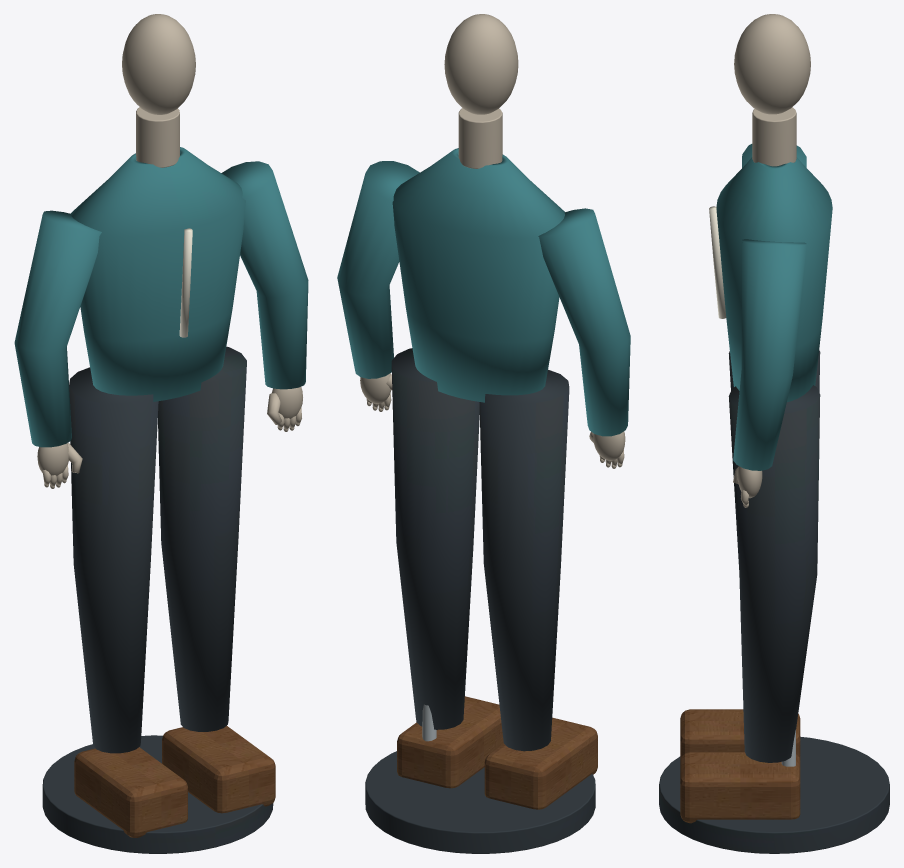
File: standing-mannequin.glb
The picture shows the model from 3 angles, left to right: view 1: azimuth 30°, elevation 25°; view 2: azimuth 150°, elevation 25°; view 3: azimuth 270°, elevation 25°; orthographic projection.
Visible parts, largest first — view 1: Original opaque dressed torso, Original closed trouser leg, Original closed trouser leg.001, Original long sleeve, Original long sleeve.001, Mannequin weighted display plinth, Original plain shoe, Original plain shoe.001, Neutral featureless mannequin head, Featureless mannequin neck, Original shirt front placket, Sculpted mannequin palm (+1 smaller); view 2: Original opaque dressed torso, Original closed trouser leg, Original closed trouser leg.001, Mannequin weighted display plinth, Original long sleeve, Original long sleeve.001, Original plain shoe, Original plain shoe.001, Neutral featureless mannequin head, Featureless mannequin neck, Sculpted mannequin palm, Sculpted mannequin palm.001; view 3: Original closed trouser leg.001, Original opaque dressed torso, Mannequin weighted display plinth, Original long sleeve.001, Original plain shoe.001, Neutral featureless mannequin head, Original plain shoe, Featureless mannequin neck, Original shirt front placket, Sculpted mannequin palm.001.
Part boxes in pixels (x1,y1,x2,y2): Original opaque dressed torso: (71,147,245,401); Original closed trouser leg: (69,367,158,753); Original closed trouser leg.001: (158,346,246,731); Original long sleeve: (14,210,101,447); Original long sleeve.001: (221,161,308,389); Mannequin weighted display plinth: (42,735,273,853); Original plain shoe: (74,747,187,837); Original plain shoe.001: (162,726,275,813); Neutral featureless mannequin head: (122,14,195,114); Featureless mannequin neck: (136,107,179,167); Original shirt front placket: (179,228,192,337); Sculpted mannequin palm: (37,443,68,476); Original opaque dressed torso: (392,148,564,402); Original closed trouser leg: (479,369,569,751); Original closed trouser leg.001: (391,348,479,729); Mannequin weighted display plinth: (365,751,595,853); Original long sleeve: (538,208,630,436); Original long sleeve.001: (337,161,419,378); Original plain shoe: (484,717,597,809); Original plain shoe.001: (397,696,503,788); Neutral featureless mannequin head: (444,14,518,114); Featureless mannequin neck: (458,108,502,168); Sculpted mannequin palm: (593,431,625,460); Sculpted mannequin palm.001: (360,373,391,403); Original closed trouser leg.001: (728,385,820,762); Original opaque dressed torso: (716,157,832,402); Mannequin weighted display plinth: (659,736,889,853); Original long sleeve.001: (733,239,806,470); Original plain shoe.001: (680,752,800,823); Neutral featureless mannequin head: (734,14,810,114); Original plain shoe: (680,709,800,760); Featureless mannequin neck: (752,107,796,166); Original shirt front placket: (709,206,726,318); Sculpted mannequin palm.001: (737,466,762,498).
Bounding box in the file's own units: 0.6884 × 1.81 × 0.48.
7 materials, 7 textured.
